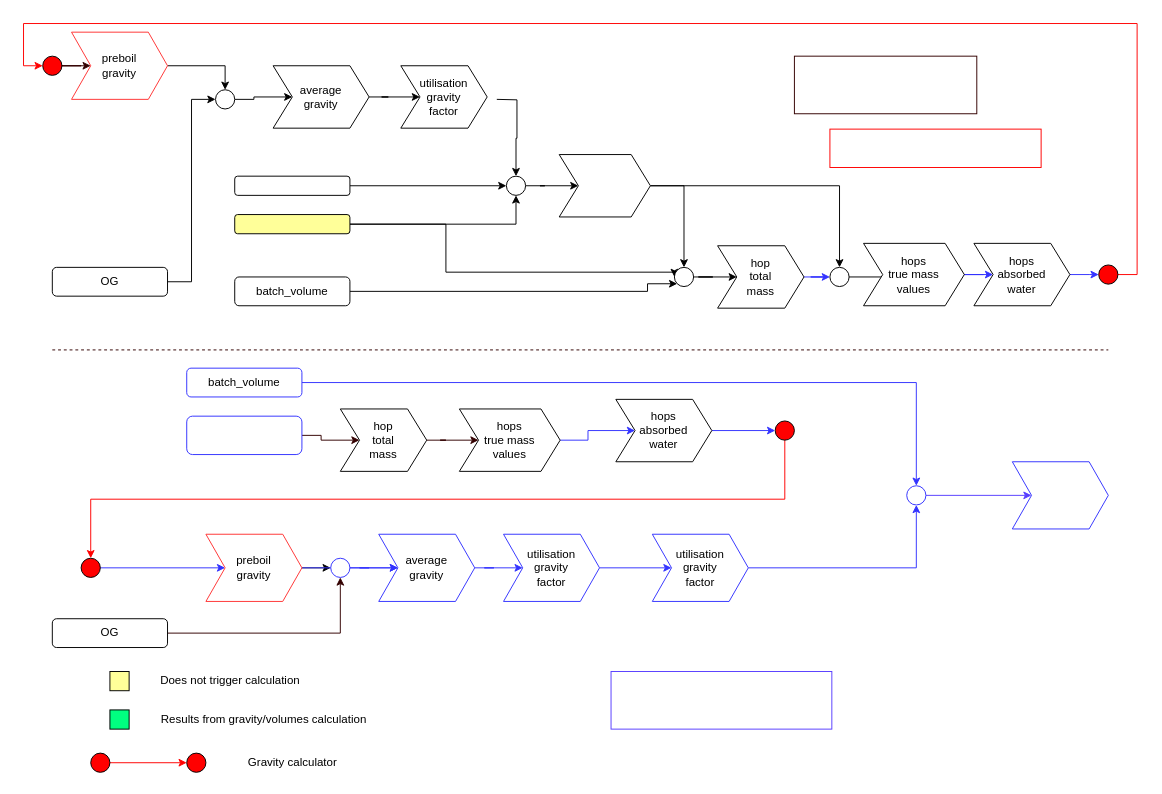
The diagram is 1162 pixels wide and 794 high, and some of its shapes have lost their labels. The shapes that lost their labels are listed below. From the top down, each one's centre as x and y in pixels, then its label:
At (x=885, y=84): "IBU calculation bitterness_as_target".
At (x=935, y=148): "This loop should be protected against infinite loop".
At (x=292, y=185): "boil_time".
At (x=604, y=185): "average ibu yield".
At (x=292, y=224): "hops (percentages)".
At (x=244, y=435): "hop (mass values)".
At (x=1059, y=495): "calculated bitterness".
At (x=721, y=700): "IBU calculation (not bitterness_as_target)".
